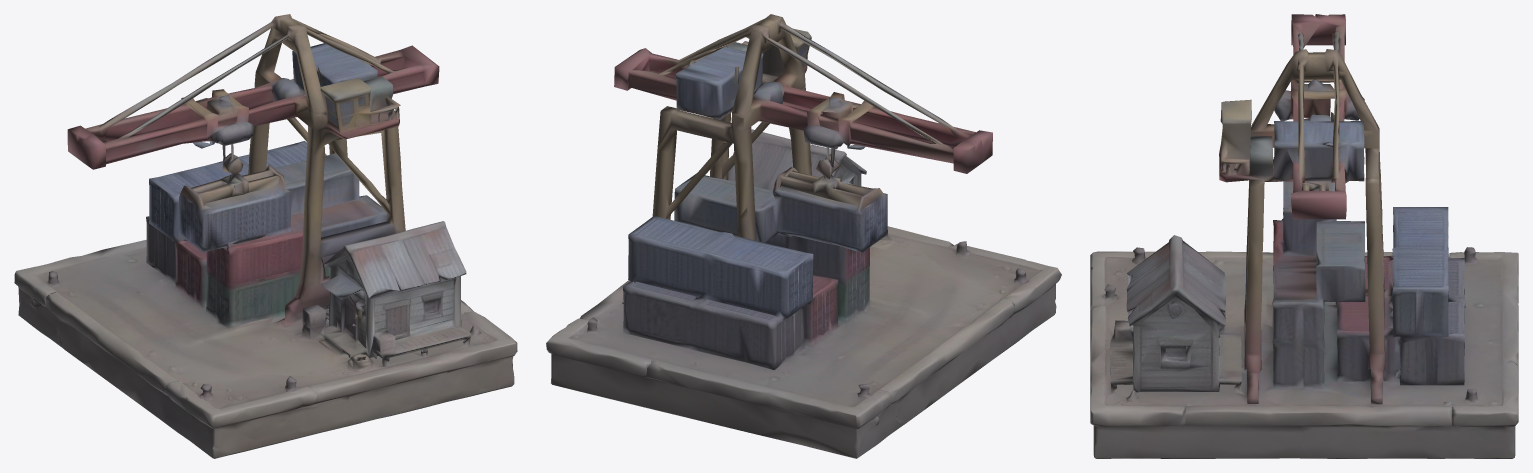
Rendered from seaport_main.glb.
The picture shows the model from 3 angles, left to right: view 1: azimuth 30°, elevation 25°; view 2: azimuth 150°, elevation 25°; view 3: azimuth 270°, elevation 25°; orthographic projection. The views are drawn at different scales.
Visible parts, largest first — view 1: tripo_node_853f4bbe-7b80-46f4-b459-1eefe0fd3939; view 2: tripo_node_853f4bbe-7b80-46f4-b459-1eefe0fd3939; view 3: tripo_node_853f4bbe-7b80-46f4-b459-1eefe0fd3939.
Part boxes in pixels (x1=…): tripo_node_853f4bbe-7b80-46f4-b459-1eefe0fd3939: x1=14, y1=14, x2=517, y2=458; tripo_node_853f4bbe-7b80-46f4-b459-1eefe0fd3939: x1=546, y1=14, x2=1061, y2=458; tripo_node_853f4bbe-7b80-46f4-b459-1eefe0fd3939: x1=1090, y1=14, x2=1518, y2=458.
Size of the model in its own units: 1 by 0.8804 by 0.9944.
1 material, 1 textured.
